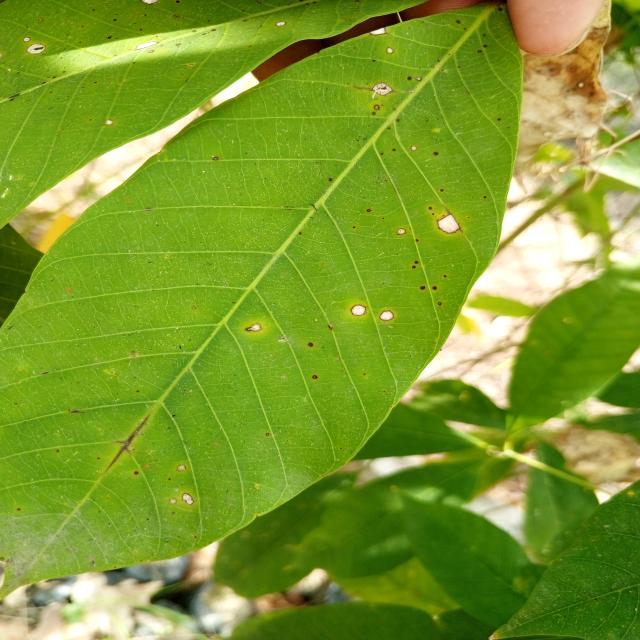Colletotrichum: (351, 304, 366, 316), (379, 310, 394, 321), (182, 493, 194, 505), (177, 464, 186, 472), (308, 342, 313, 347), (312, 375, 318, 379), (134, 471, 139, 475), (438, 302, 441, 306)
Corynespora: (103, 416, 149, 474)
